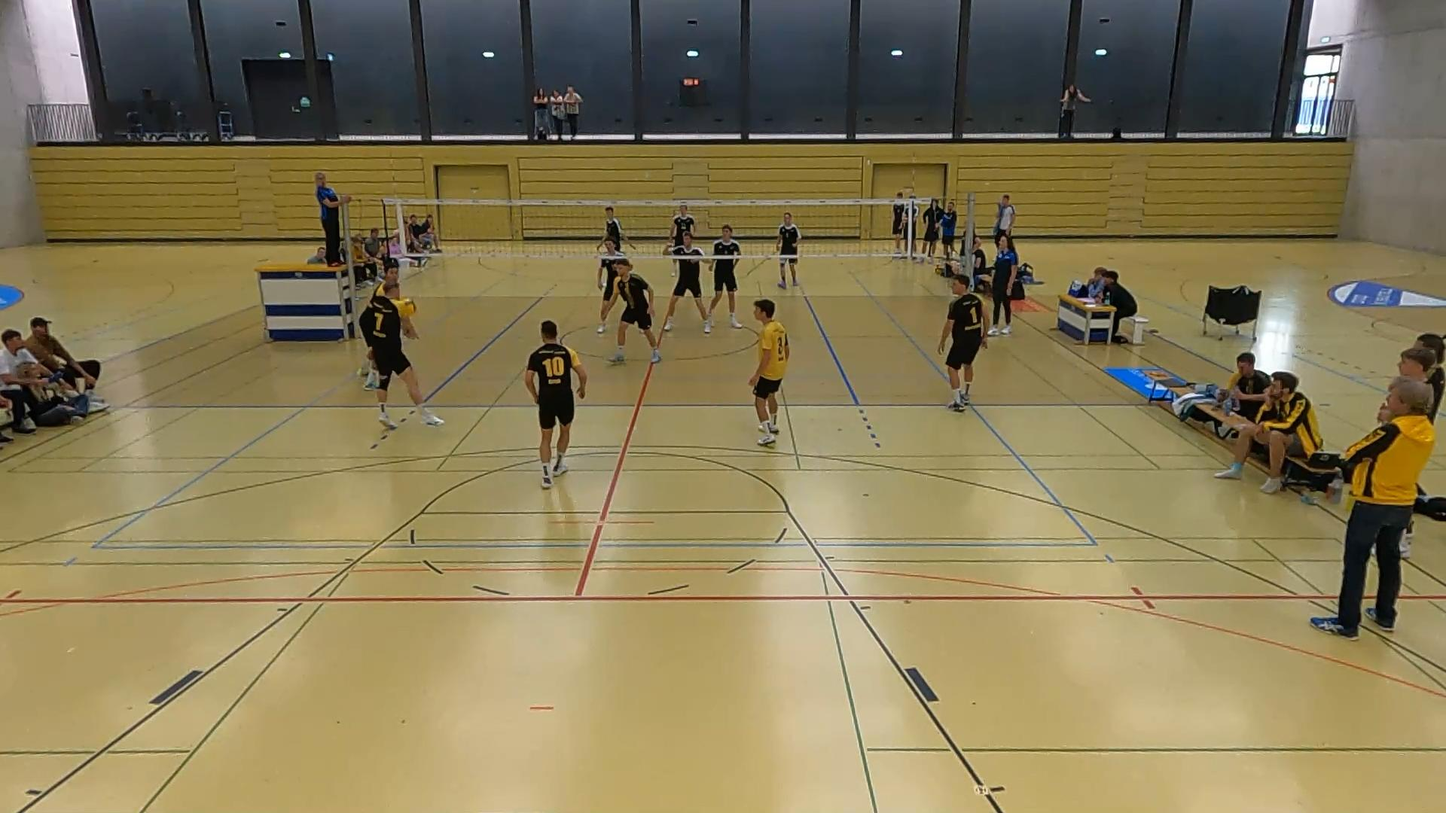Player: (524, 320, 587, 488), (938, 274, 987, 411), (749, 299, 789, 445), (609, 258, 660, 363), (663, 233, 709, 331), (704, 225, 742, 333), (596, 235, 625, 334), (775, 212, 800, 288), (597, 206, 624, 250), (364, 349, 378, 390), (671, 267, 676, 273)
Receive: (361, 277, 454, 442)
ball: (394, 290, 419, 318)
